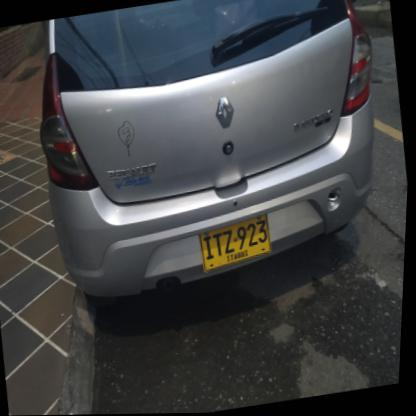placa: (194, 211, 279, 274)
